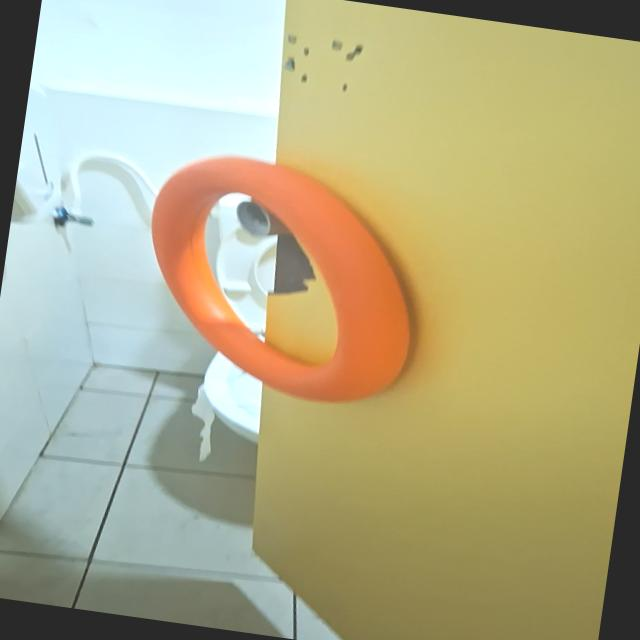note: (127, 143, 435, 414)
